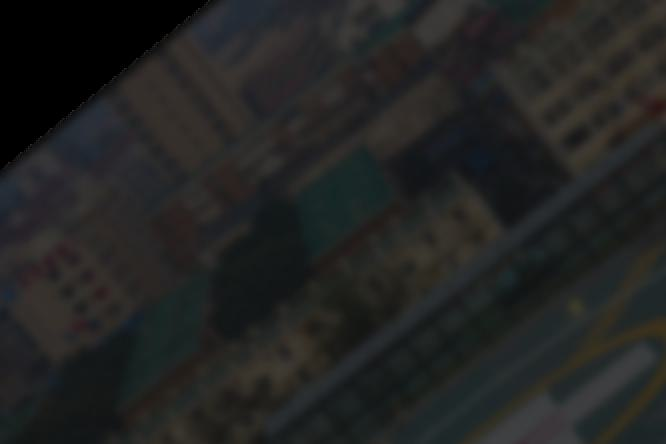Apron: (420, 314, 666, 444)
